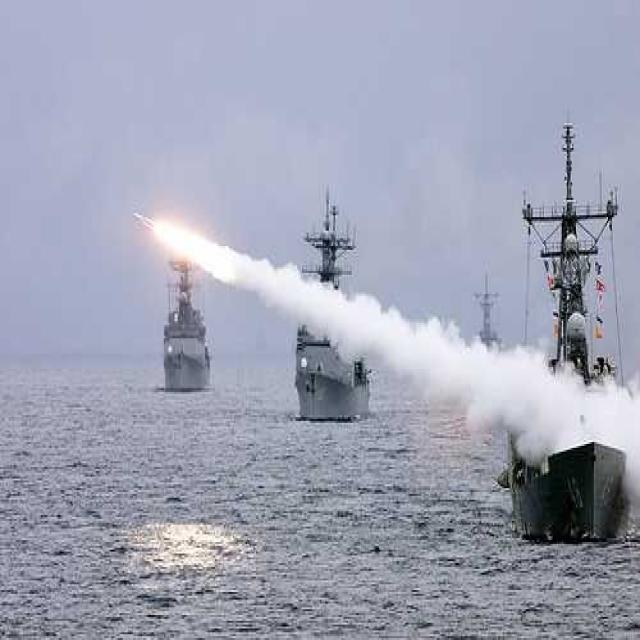missile: (126, 210, 166, 248)
